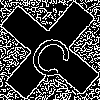C: (25, 25, 82, 83)
